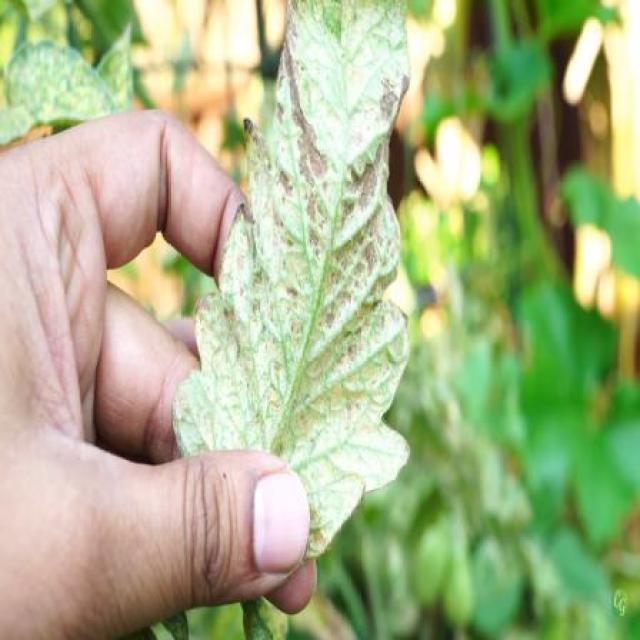Spider Mites: (168, 0, 415, 570)
